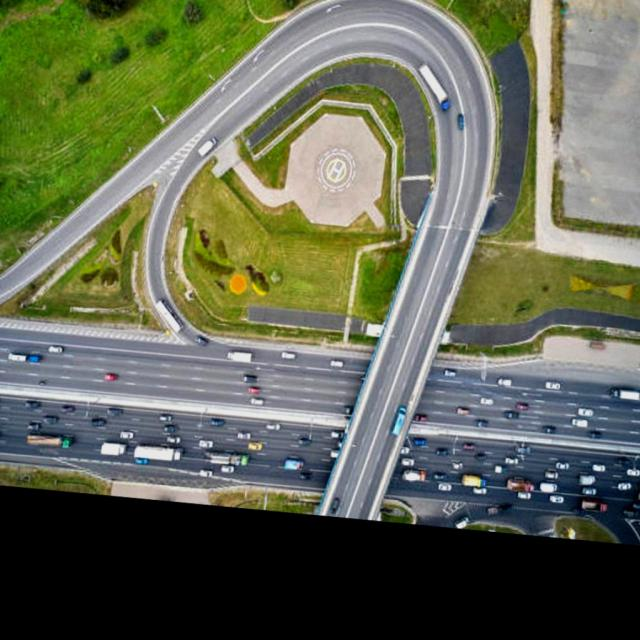helipad: (319, 152, 353, 190)
